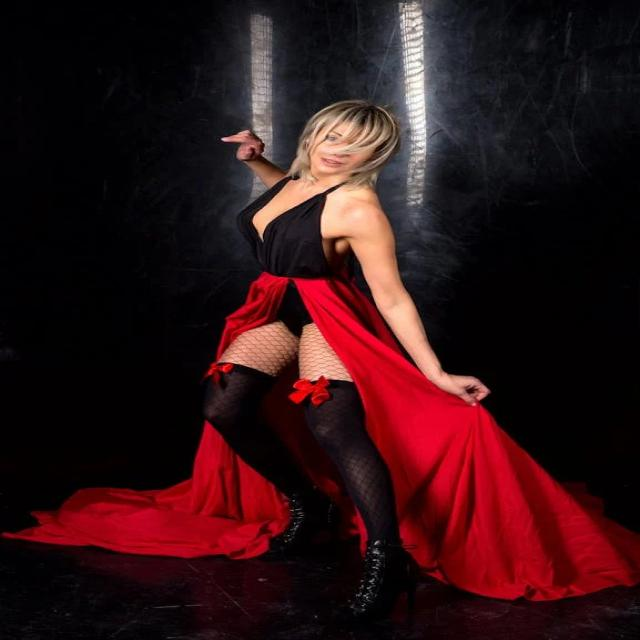Edited images: (169, 83, 523, 616)
